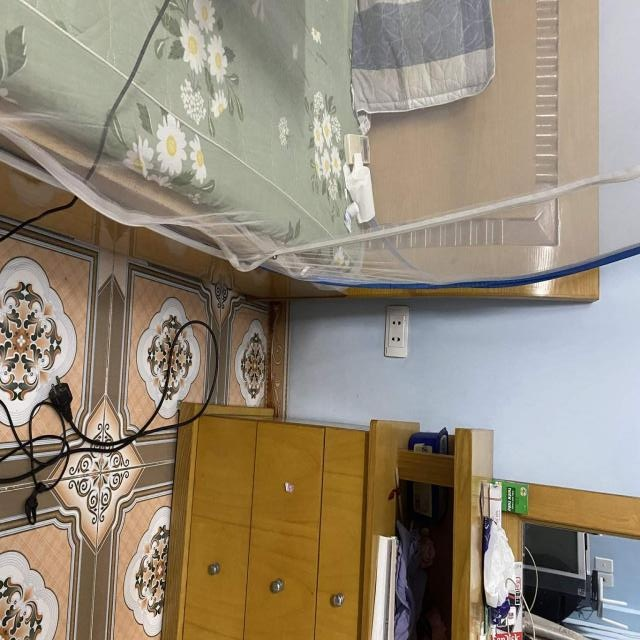outlet: (384, 305, 410, 357)
